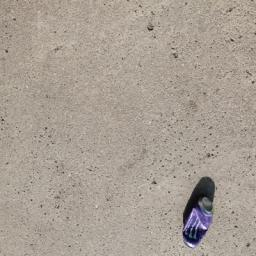FOD: (181, 175, 219, 252)
